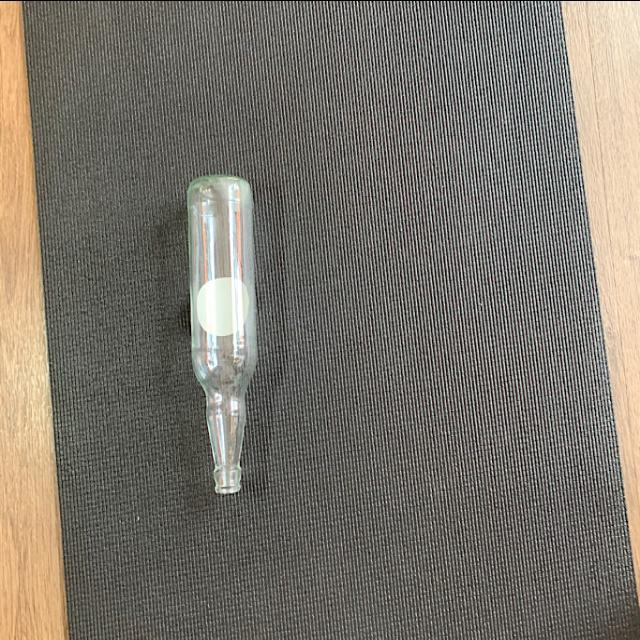litter: (186, 169, 260, 495)
